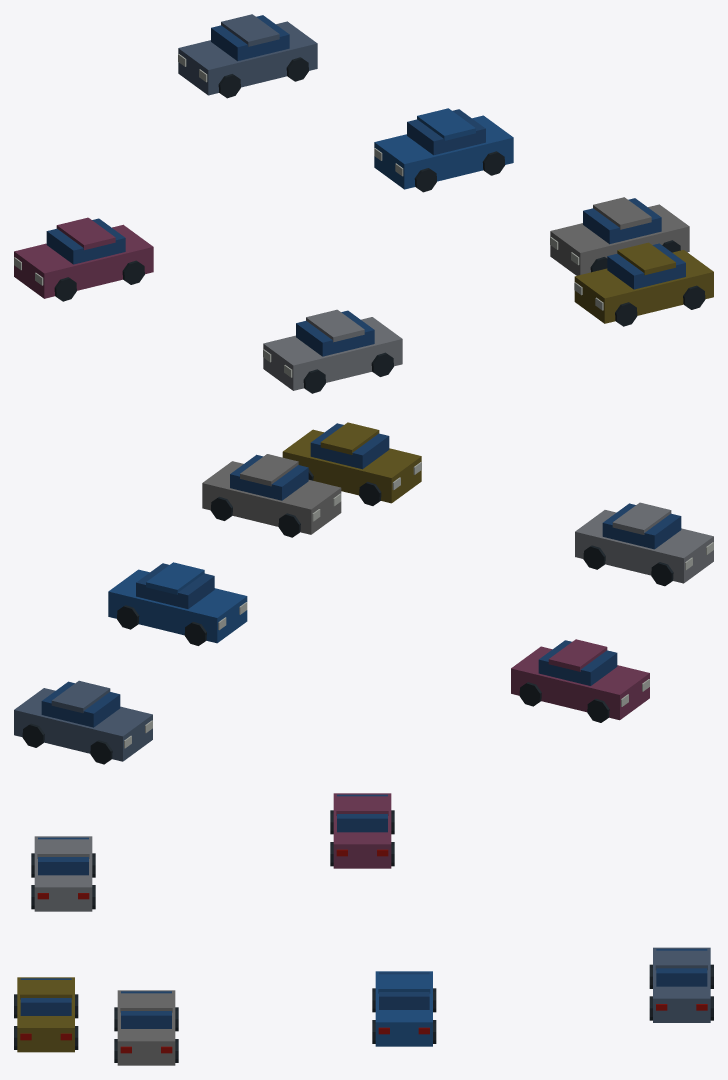
The model's file is cars_6.glb.
3 renders of one model, top to bottom at view 1: azimuth 30°, elevation 25°; view 2: azimuth 150°, elevation 25°; view 3: azimuth 270°, elevation 25°, orthographic. The views are drawn at different scales.
Parts seen in each view (by area): view 1: cars_6; view 2: cars_6; view 3: cars_6.
Boxes of the visible parts, bbox=[...] form: cars_6: bbox=[14, 14, 713, 393]; cars_6: bbox=[14, 422, 713, 764]; cars_6: bbox=[14, 793, 713, 1065].
Bounding box in the file's own units: 35.21 × 3.04 × 41.84.
